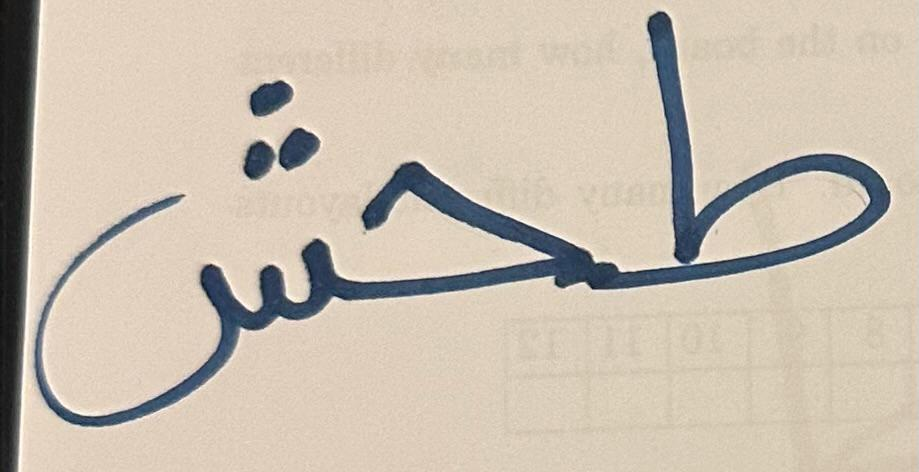hah: (348, 31, 600, 372)
tah: (39, 24, 345, 449)
teh: (604, 6, 905, 345)
